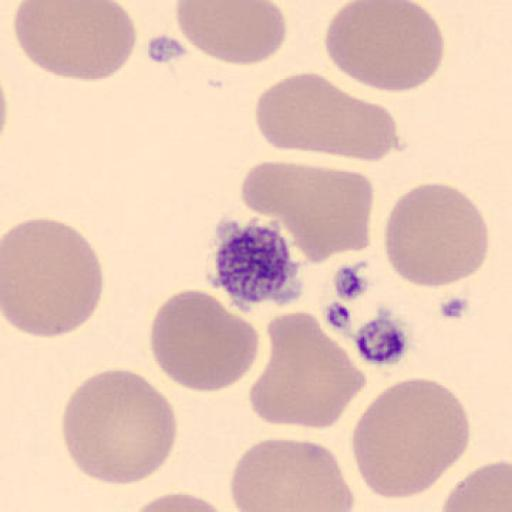Platelet: (206, 213, 306, 312), (350, 312, 412, 370)
RBC: (350, 375, 472, 499), (239, 158, 375, 265), (248, 308, 366, 431), (60, 366, 178, 486), (254, 74, 400, 163), (2, 217, 106, 339), (148, 286, 260, 394), (384, 181, 491, 290), (323, 1, 445, 94), (11, 0, 138, 83), (229, 436, 354, 512), (173, 0, 287, 66), (439, 458, 512, 512), (125, 491, 235, 512)
